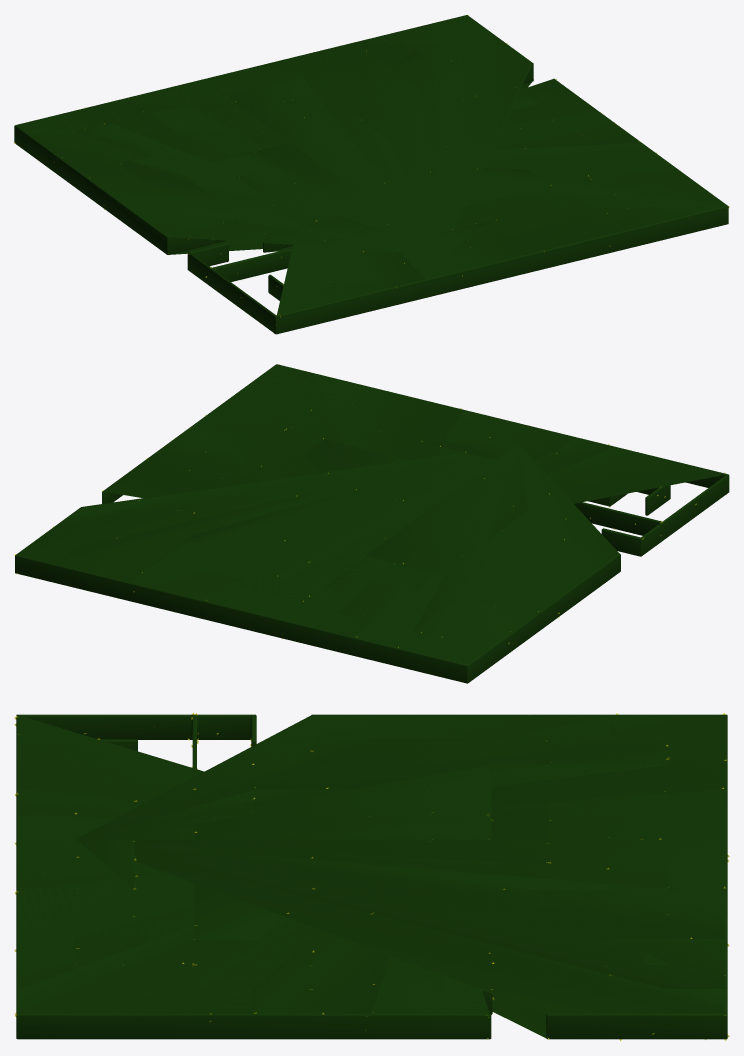
The model's file is maze.fbx.
3 views of the same model, one above another, from view 1: azimuth 30°, elevation 25°; view 2: azimuth 150°, elevation 25°; view 3: azimuth 270°, elevation 25° (orthographic). The views are drawn at different scales.
Visible parts, largest first — view 1: Maxe; view 2: Maxe; view 3: Maxe.
Boxes of the visible parts, x1,y1,x2,y2 form: Maxe: [14, 15, 728, 334]; Maxe: [15, 364, 729, 683]; Maxe: [16, 714, 727, 1039].
Size of the model in its own units: 1363 by 70.7 by 1363.
